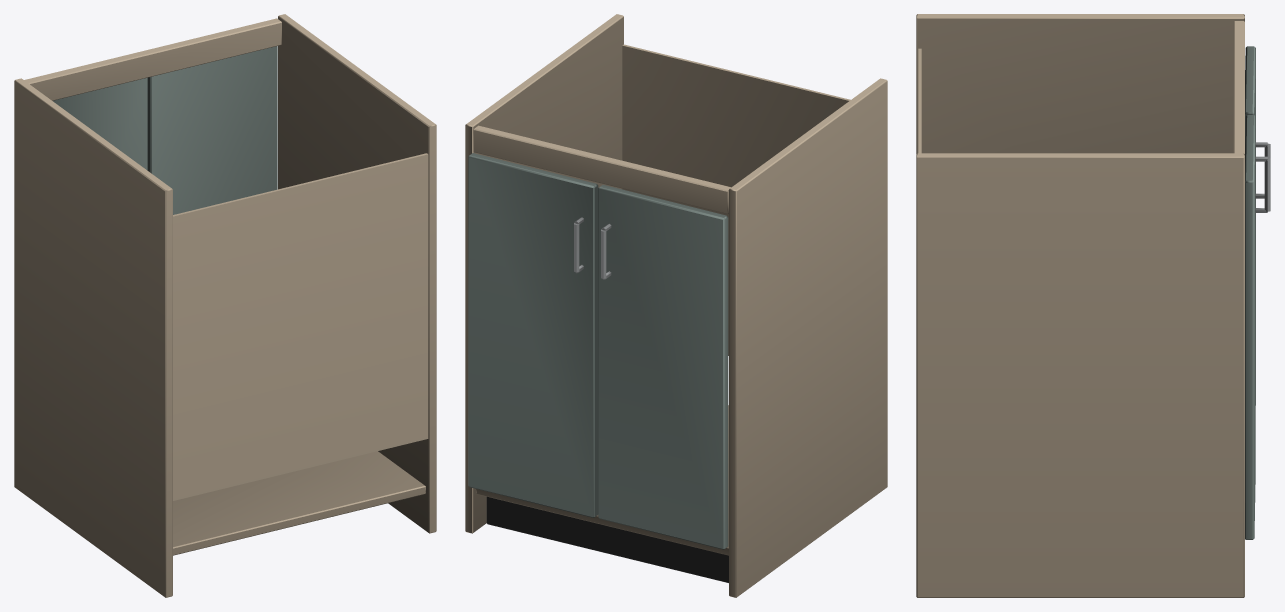
File: counter_cabinet.glb
The picture shows the model from 3 angles, left to right: view 1: azimuth 30°, elevation 25°; view 2: azimuth 150°, elevation 25°; view 3: azimuth 270°, elevation 25°; orthographic projection. The views are drawn at different scales.
Visible parts, largest first — view 1: carcass, door_r, door_l; view 2: carcass, door_l, door_r; view 3: carcass, door_r, door_l.
Part boxes in pixels (box(x1,y1,x2,y2)): carcass: box(14, 14, 436, 597); door_r: box(147, 46, 277, 214); door_l: box(53, 78, 147, 170); carcass: box(465, 14, 887, 597); door_l: box(598, 185, 728, 549); door_r: box(468, 153, 598, 517); carcass: box(916, 14, 1244, 597); door_r: box(1245, 115, 1270, 539); door_l: box(1245, 46, 1270, 405).
Size of the model in its own units: 0.6 by 0.86 by 0.6252.
